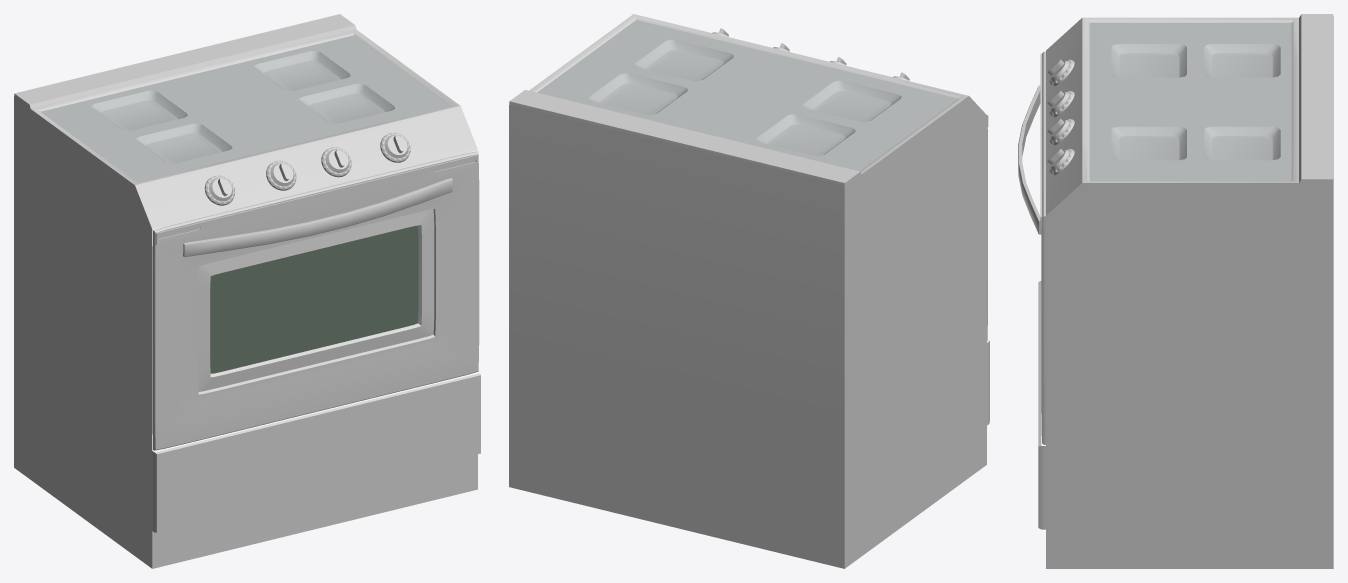
Rendered from stove.glb.
The picture shows the model from 3 angles, left to right: view 1: azimuth 30°, elevation 25°; view 2: azimuth 150°, elevation 25°; view 3: azimuth 270°, elevation 25°; orthographic projection. The views are drawn at different scales.
Parts seen in each view (by area): view 1: Stove1, StoveTopDoor1, StoveTopGas, StoveBottomDoor1; view 2: Stove1, StoveTopGas; view 3: Stove1, StoveTopGas, StoveTopDoor1, StoveBottomDoor1.
Part boxes in pixels (x1,y1,x2,y2): Stove1: (14,14,477,568); StoveTopDoor1: (152,151,479,450); StoveTopGas: (40,35,450,182); StoveBottomDoor1: (152,373,480,532); Stove1: (509,14,986,568); StoveTopGas: (537,20,958,171); Stove1: (1046,14,1333,568); StoveTopGas: (1089,22,1291,181); StoveTopDoor1: (1018,51,1045,444); StoveBottomDoor1: (1038,281,1045,529).
Bounding box in the file's own units: 0.85 × 0.9338 × 0.685.
